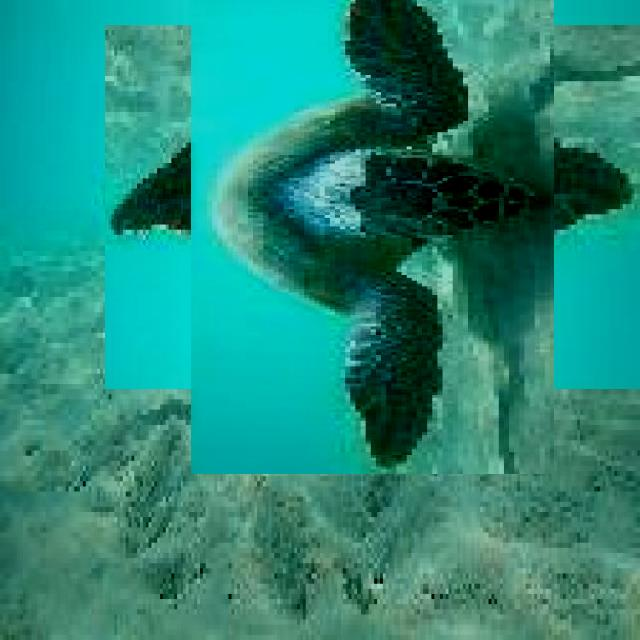Sea turtle: (147, 0, 597, 431)
